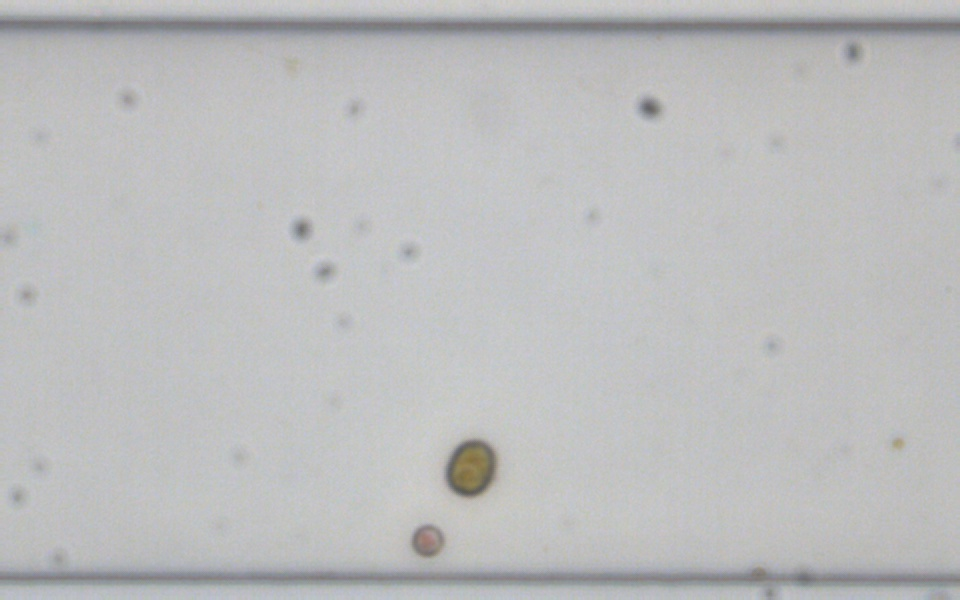Effrenium: (441, 435, 497, 499)
Porphyridium: (409, 520, 445, 559)
